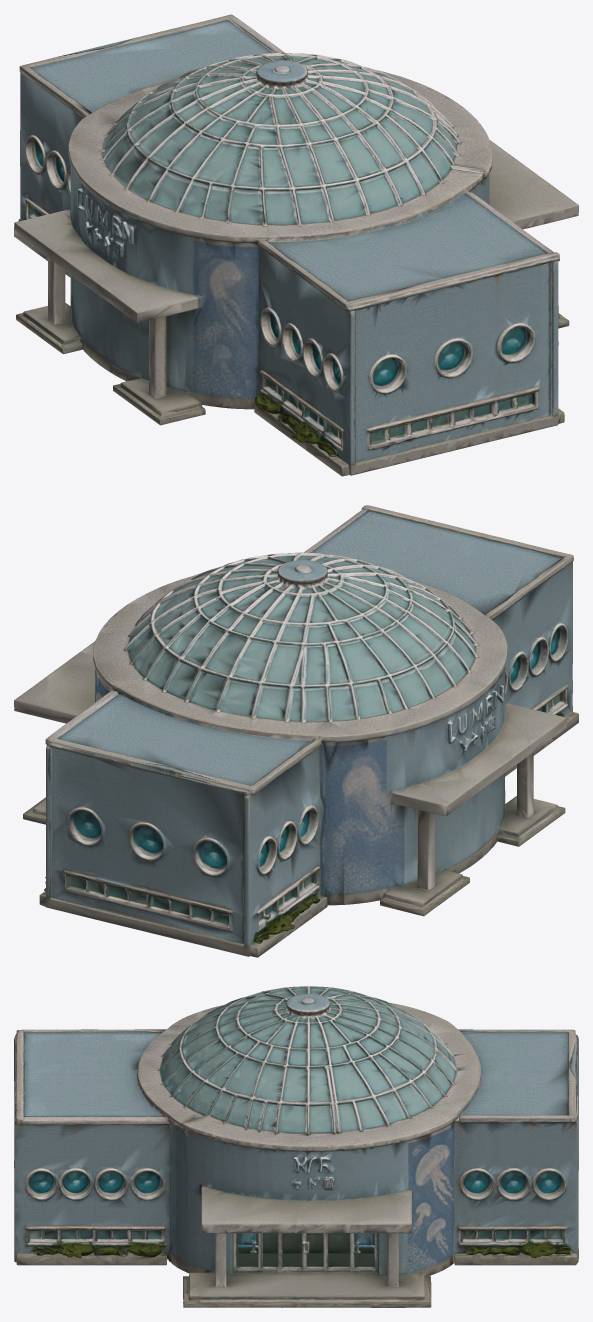
File: lumen.glb
3 renders of one model, top to bottom at view 1: azimuth 30°, elevation 25°; view 2: azimuth 150°, elevation 25°; view 3: azimuth 270°, elevation 25°, orthographic. The views are drawn at different scales.
Visible parts, largest first — view 1: tripo_node_84d0d7a5-281b-4fb1-b3ad-504f9c56bb48; view 2: tripo_node_84d0d7a5-281b-4fb1-b3ad-504f9c56bb48; view 3: tripo_node_84d0d7a5-281b-4fb1-b3ad-504f9c56bb48.
Part boxes in pixels (<box>): tripo_node_84d0d7a5-281b-4fb1-b3ad-504f9c56bb48: <box>14,14,578,476</box>; tripo_node_84d0d7a5-281b-4fb1-b3ad-504f9c56bb48: <box>14,505,578,957</box>; tripo_node_84d0d7a5-281b-4fb1-b3ad-504f9c56bb48: <box>14,986,578,1307</box>.
Bounding box in the file's own units: 0.7705 × 0.4278 × 0.9999.
Materials: 1 (1 with a texture image).
